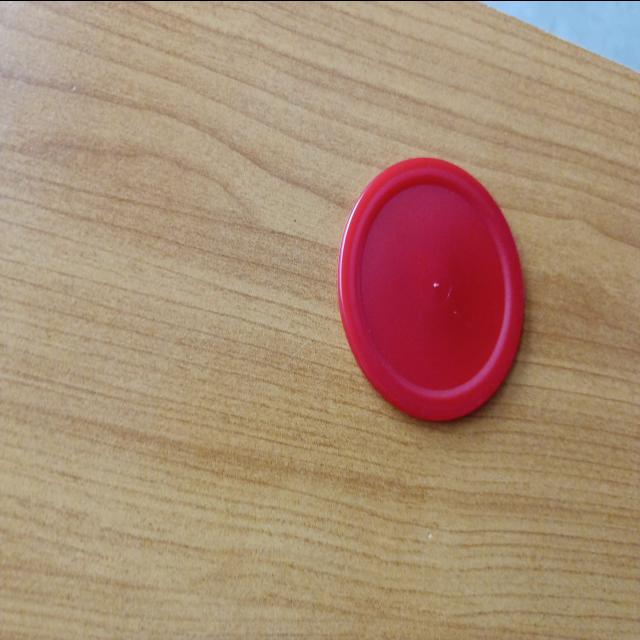chip: (336, 157, 526, 426)
